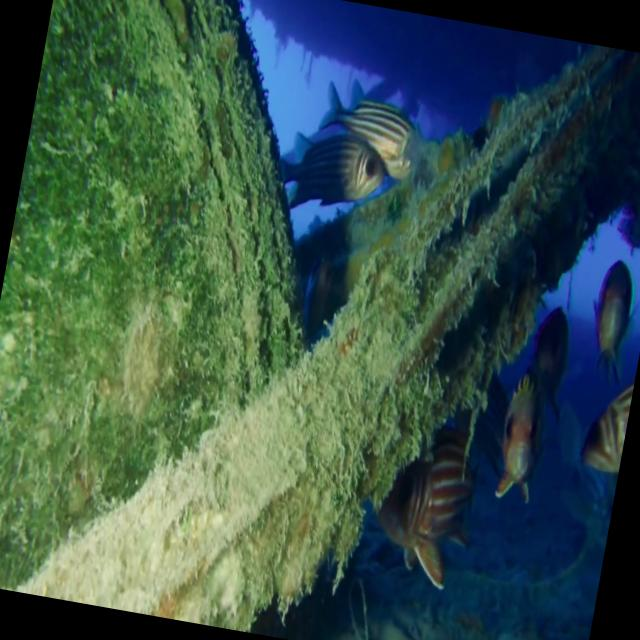Asker Baligi: (268, 64, 424, 228)
